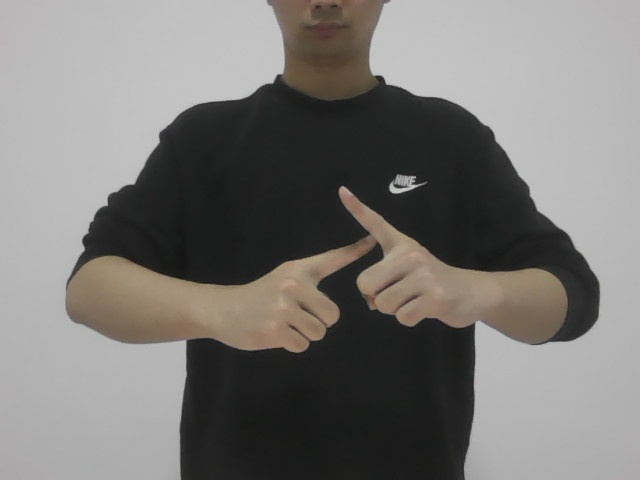peason: (249, 183, 463, 362)
